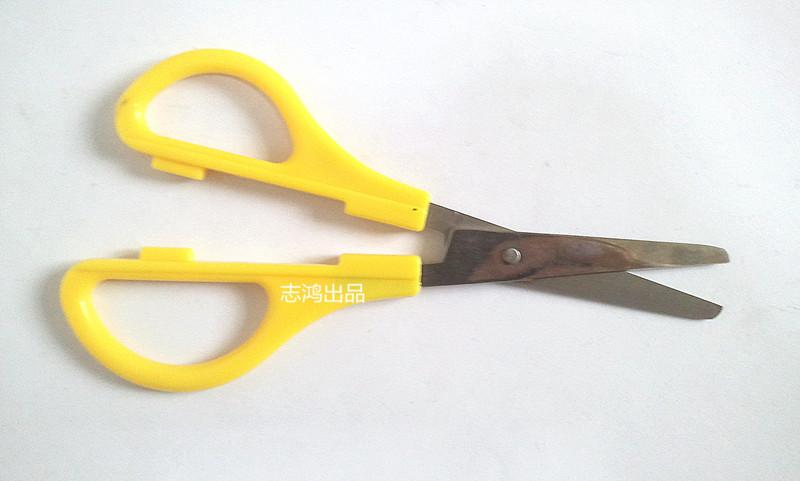scissor: (81, 34, 790, 437)
